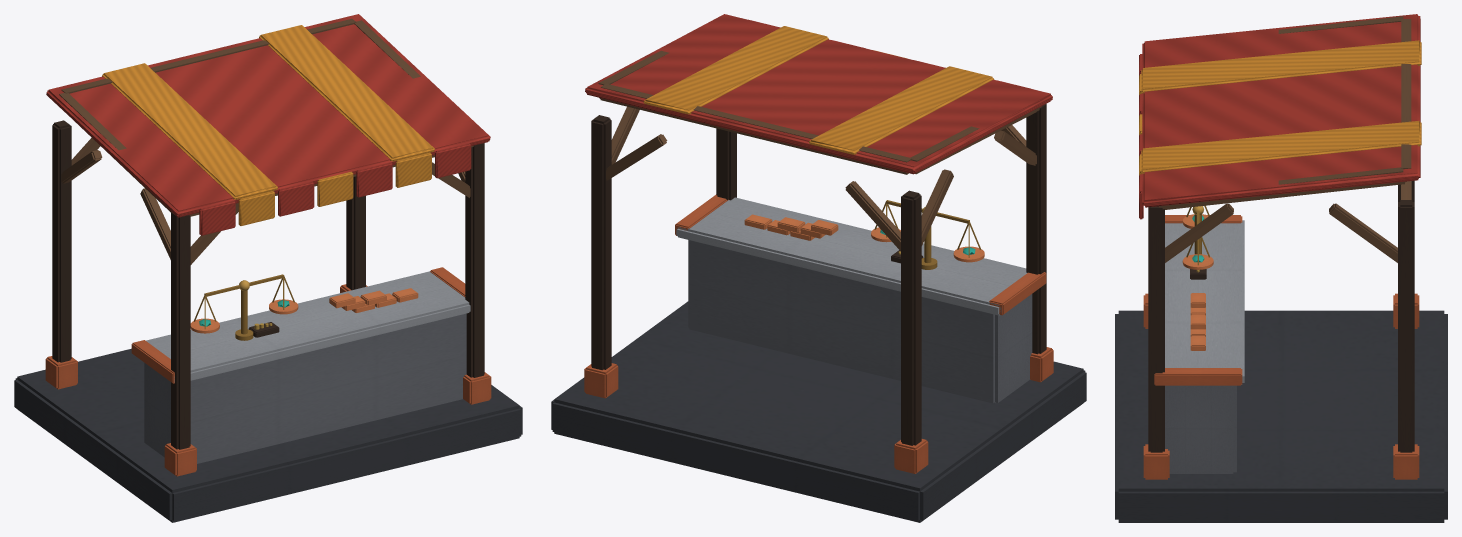
File: market_stall_ore_smith.glb
3 views of the same model, side by side, from view 1: azimuth 30°, elevation 25°; view 2: azimuth 150°, elevation 25°; view 3: azimuth 270°, elevation 25° (orthographic). The views are drawn at different scales.
Parts seen in each view (by area): view 1: market_stall_ore_smith; view 2: market_stall_ore_smith; view 3: market_stall_ore_smith.
Boxes of the visible parts, box(x1,y1,x2,y2) form: market_stall_ore_smith: box(14, 14, 522, 522); market_stall_ore_smith: box(551, 14, 1086, 522); market_stall_ore_smith: box(1115, 14, 1447, 522).
Size of the model in its own units: 3.6 by 3.18 by 2.8.
Materials: 1 (1 with a texture image).
